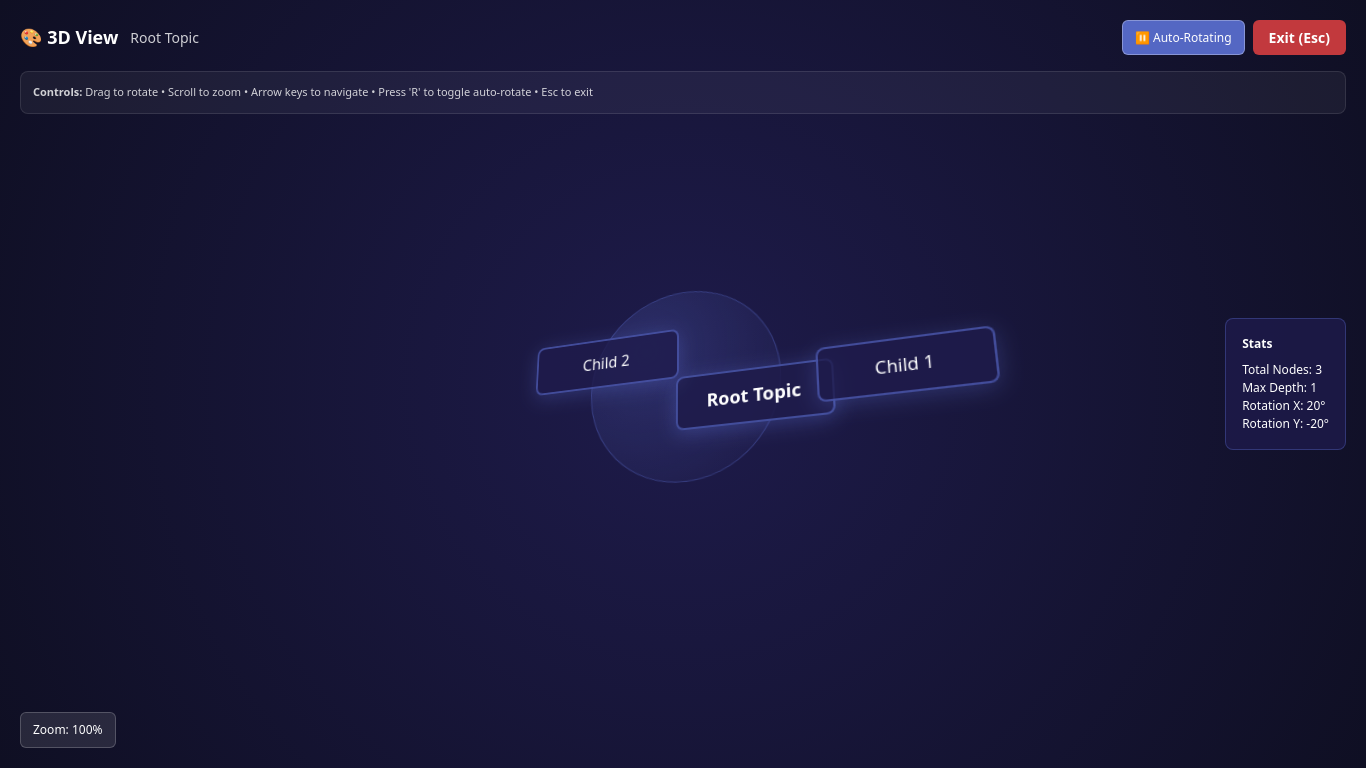
Test: ThreeDView › should show selected node info when node is clicked
// Click on first node
Click the list item "Root Topic". click: (762, 401)
box: [683,365,840,437]
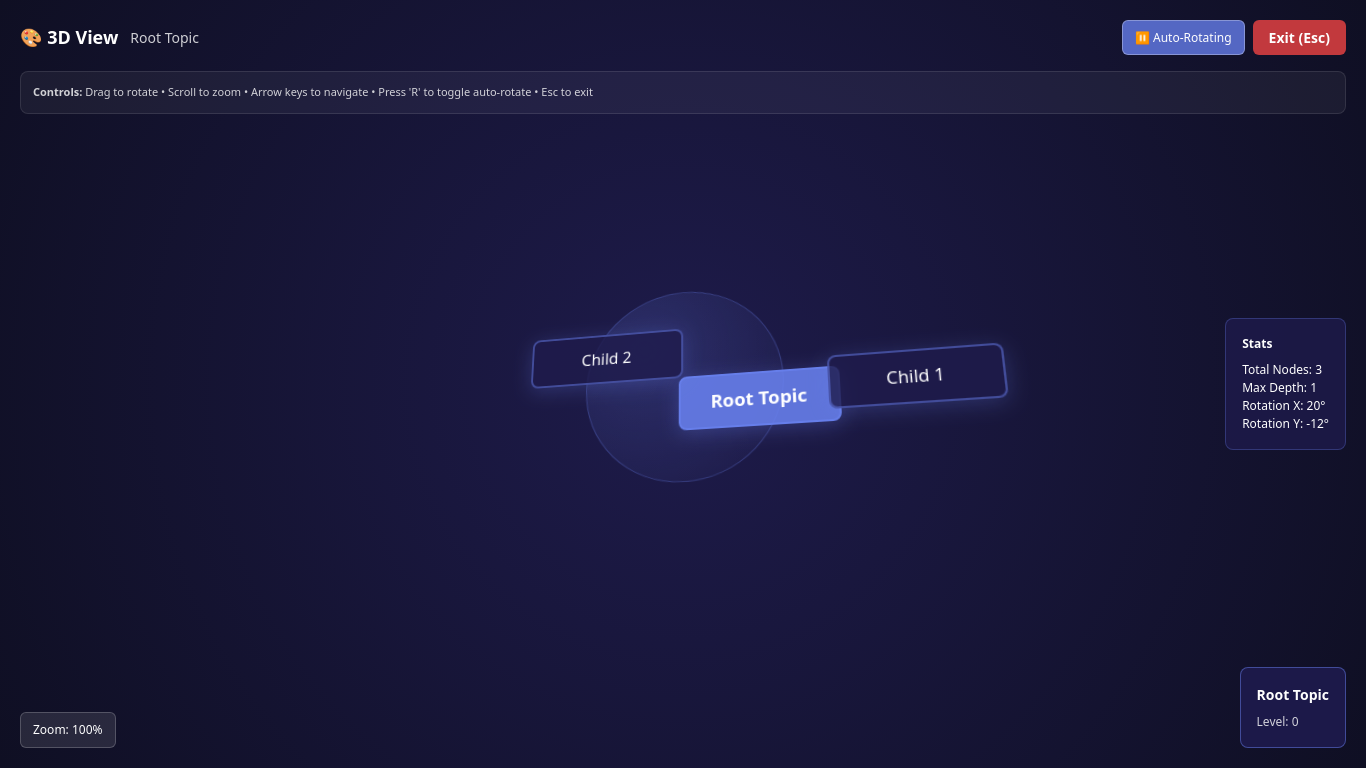
Expected: the dialog is shown, [1240,667,1346,748]
